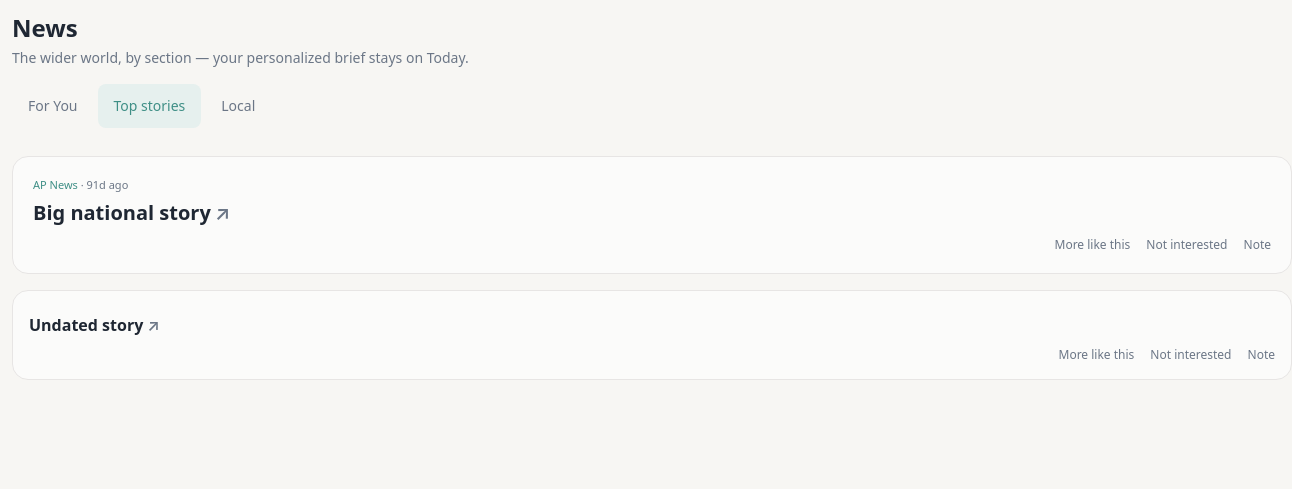
Scenario: News (M7) › saves a note on a category card through the one brief-notes path
Expected: the link "Big national story↗" is shown, top-left (33, 199), bottom-right (230, 226)
Click the button with aria-label "Note on Big national story". click: (1257, 245)
box: top-left (1244, 237), bottom-right (1271, 253)
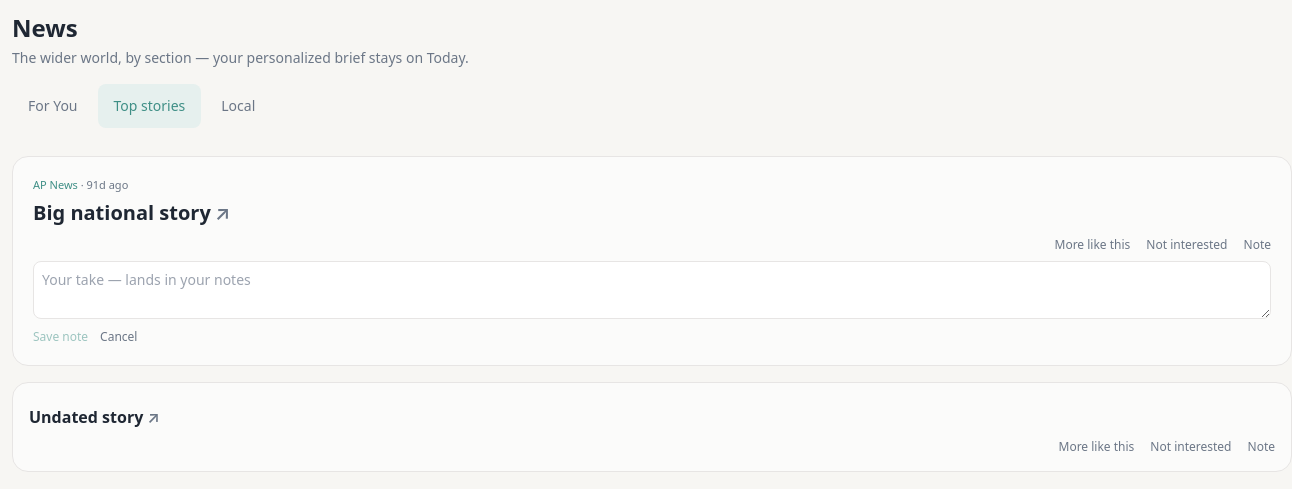
Type "Worth tracking" into the text box with placeholder "Your take — lands in your notes". click: (652, 290)
box: top-left (33, 261), bottom-right (1271, 319)
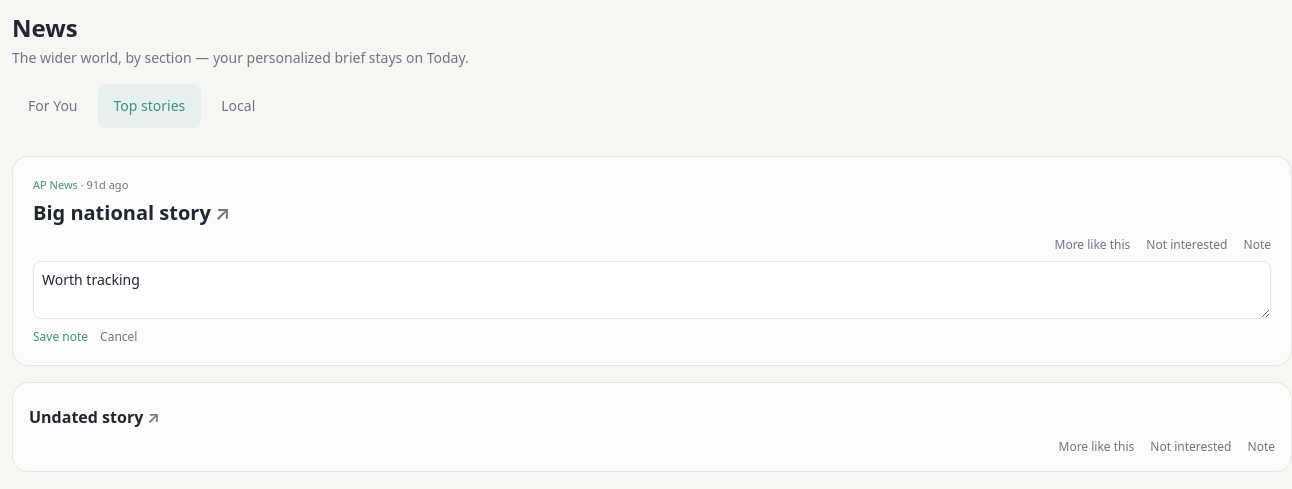
Click the button "Save note". click: (61, 337)
box: top-left (33, 329), bottom-right (88, 345)
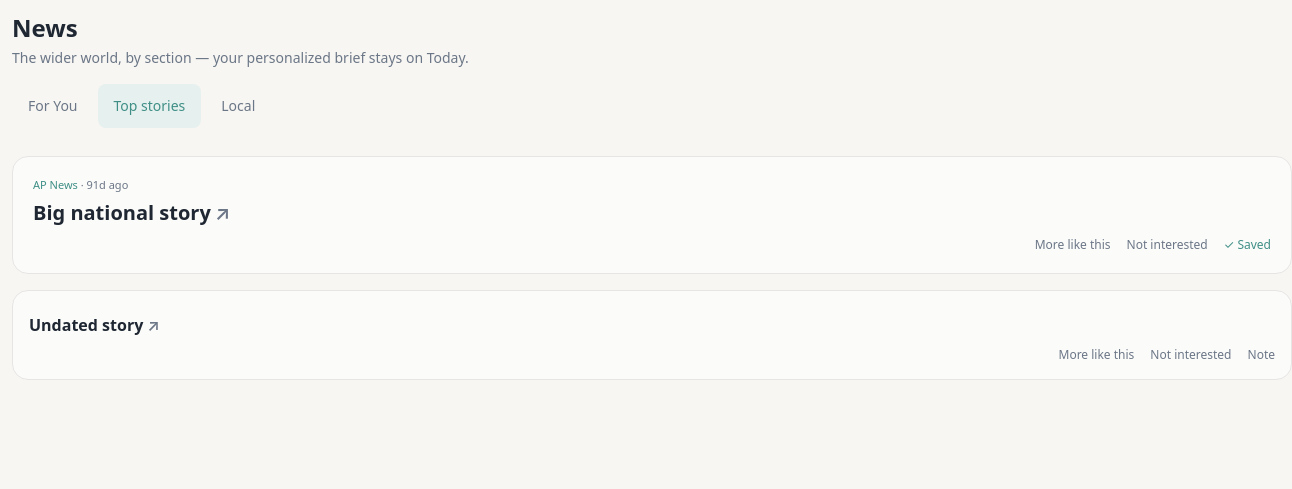
Expected: the button "✓ Saved" is shown, top-left (1224, 237), bottom-right (1271, 253)
